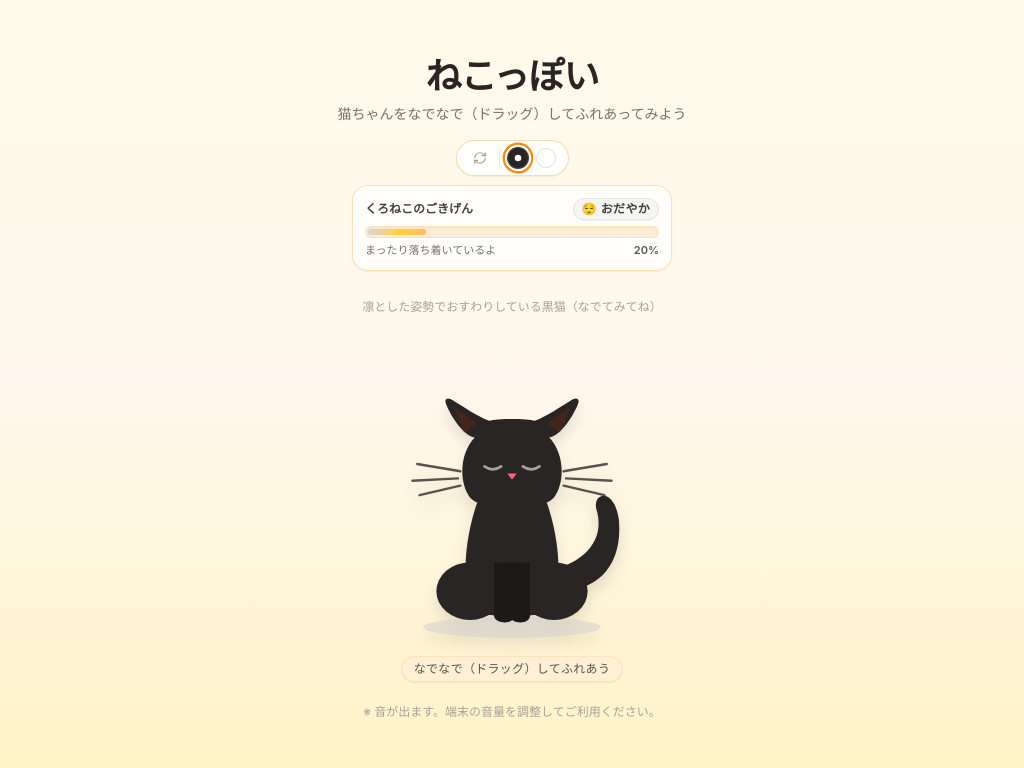
it: App コンポーネント (猫切り替え機能) › 円形ラジオボタンを直接クリックして猫を切り替えられること
// 白の円形ラジオボタンをクリック
Click the radio button named "しろねこ（ごろん）を選択". click: [546, 158]
box: x1=536 y1=148 x2=556 y2=168
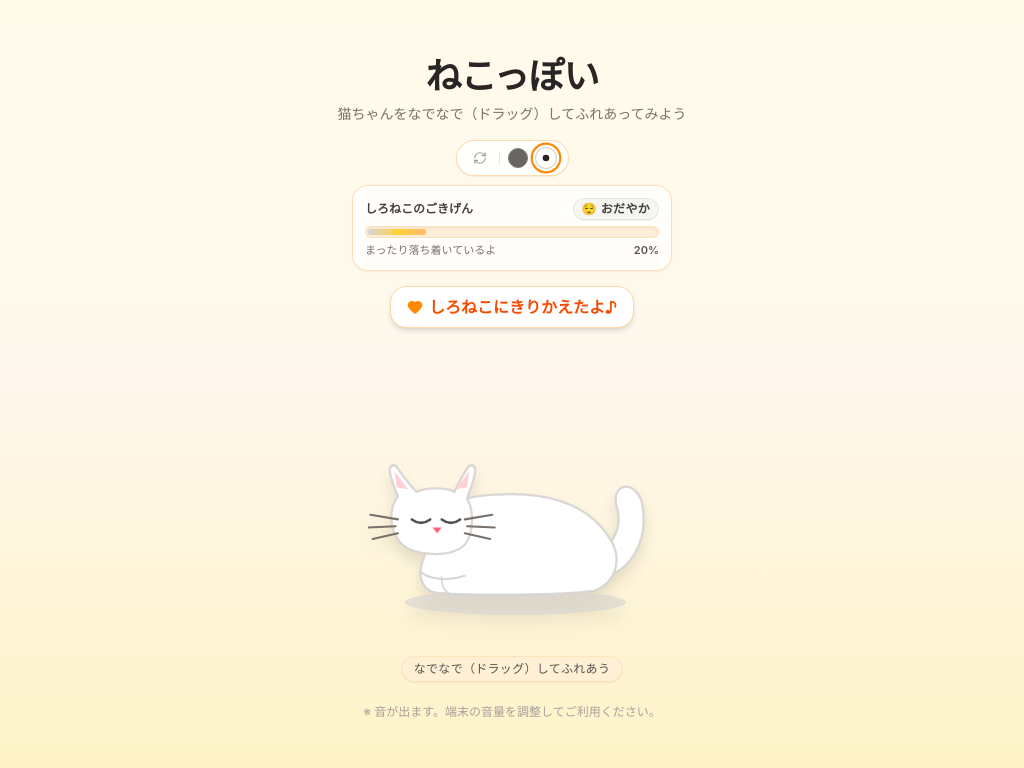
Expected: the icon with test id "white-cat-svg" is shown, x1=368 y1=404 x2=656 y2=644
Expected: the text "しろねこにきりかえたよ♪" is shown, x1=429 y1=295 x2=617 y2=319
// 黒の円形ラジオボタンをクリック
Click the radio button named "くろねこ（おすわり）を選択". click: [518, 158]
box: x1=508 y1=148 x2=528 y2=168
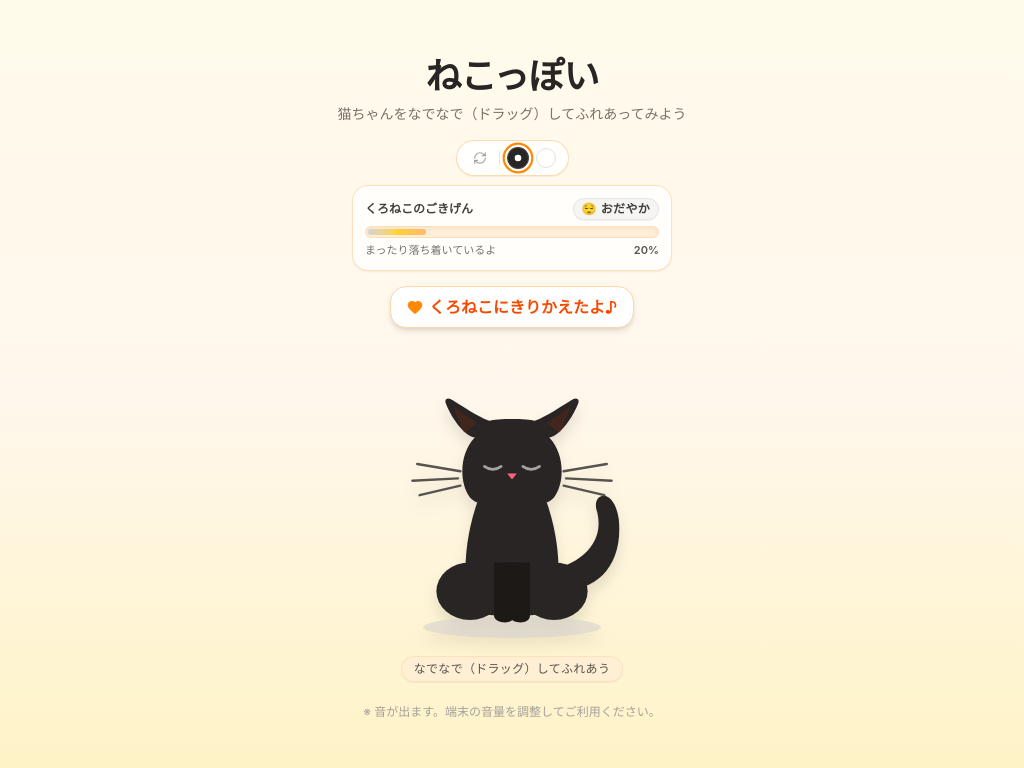
Expected: the icon with test id "black-cat-svg" is shown, x1=384 y1=356 x2=640 y2=644
Expected: the text "くろねこにきりかえたよ♪" is shown, x1=429 y1=295 x2=617 y2=319
